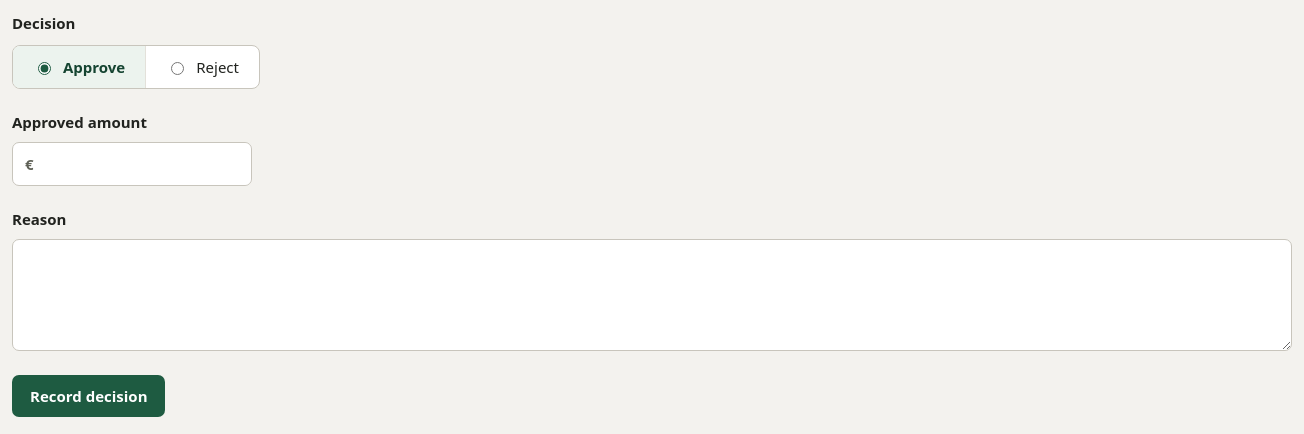
Scenario: DecisionForm amount validation › requires a reason for rejections too
The image size is (1304, 434).
Click the radio button labelled "Reject" at (178,68), box x1=171 y1=62 x2=184 y2=75
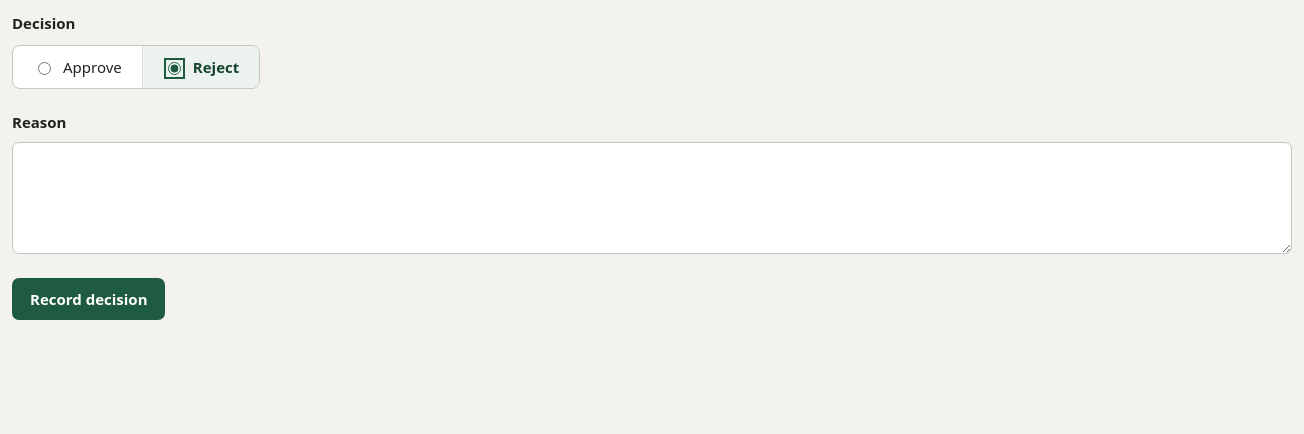
Click the button "Record decision" at (89,299), box x1=12 y1=278 x2=166 y2=320
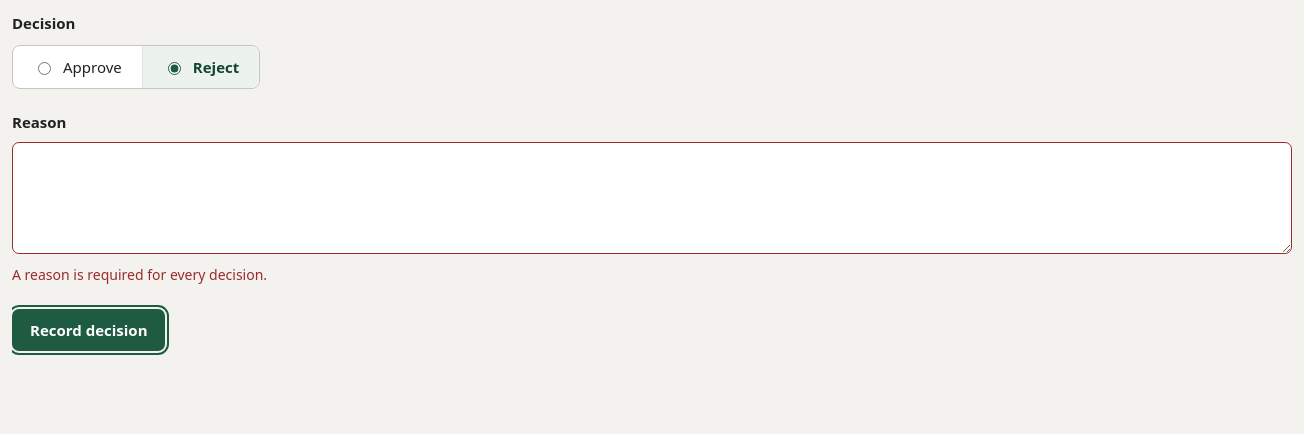
Now the message shows "reason is required", box x1=12 y1=264 x2=267 y2=284
